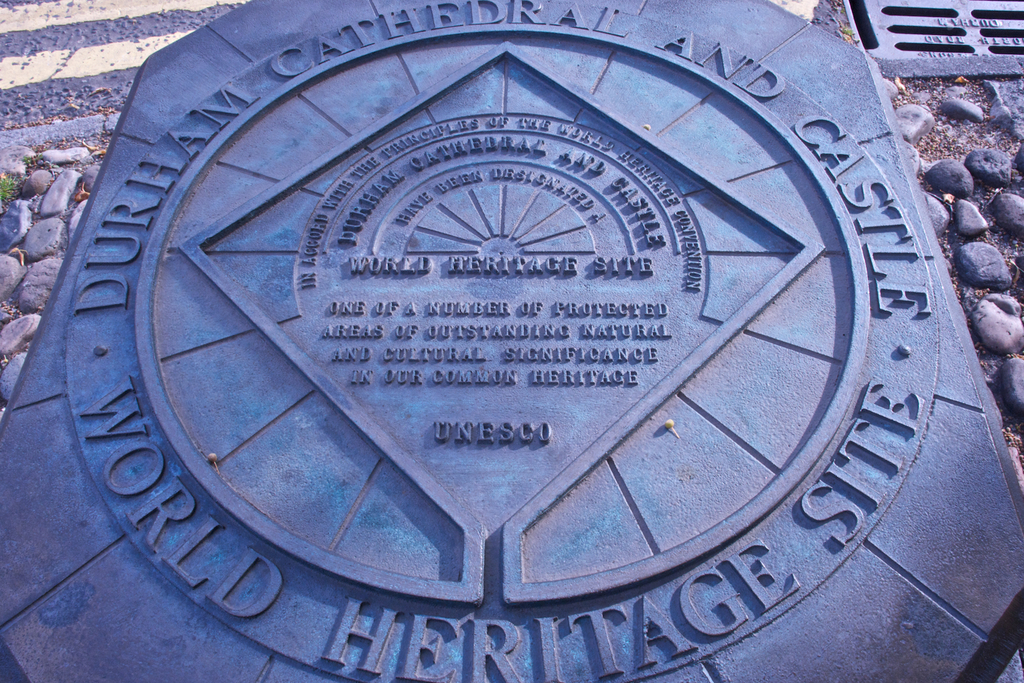person: (0, 311, 42, 403)
